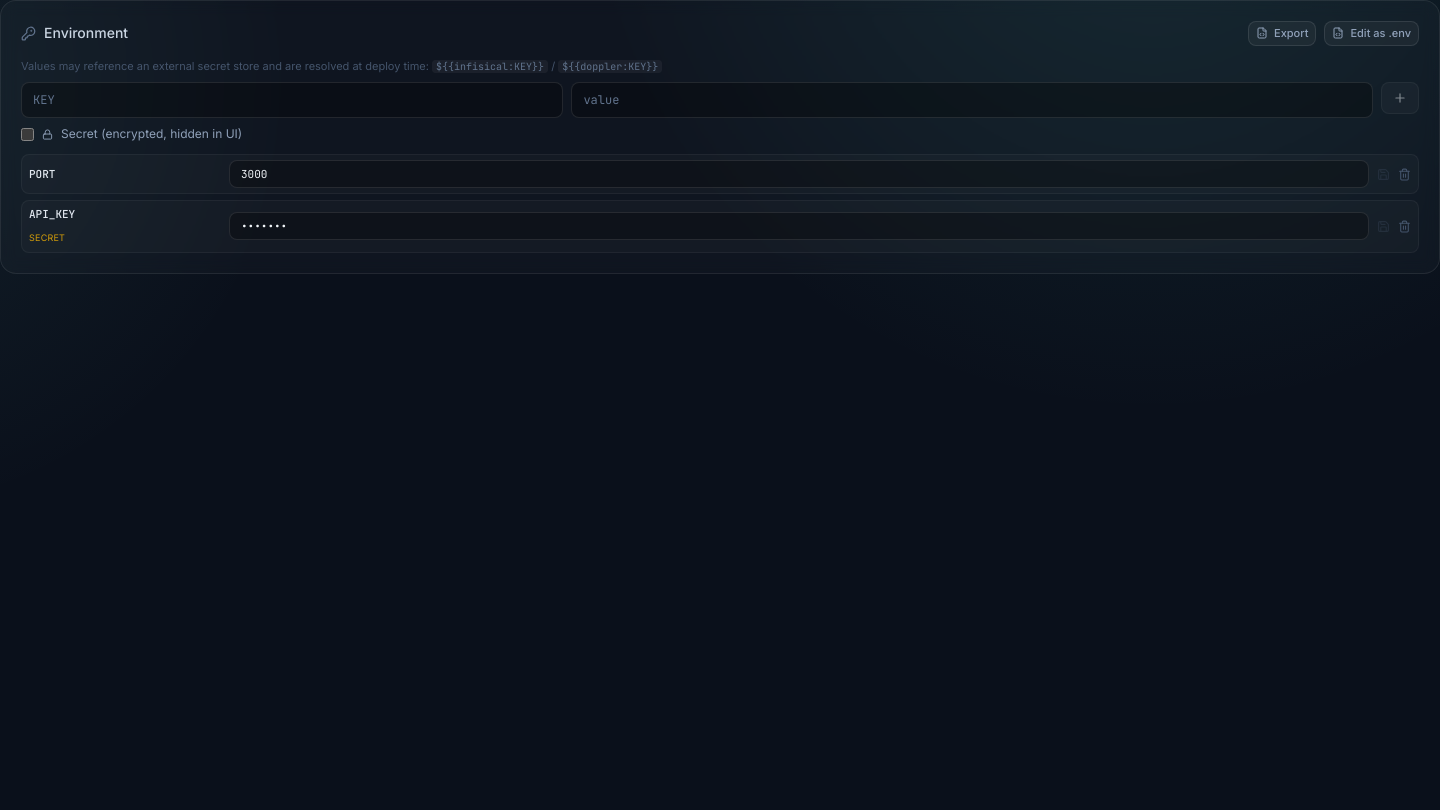
Test: EnvCard › toasts the failure when a save is rejected
Expected: the text "PORT" is shown, [29,167,55,181]
Type "X" into the field showing "3000" at coordinates (799, 174), box [229,160,1369,188]
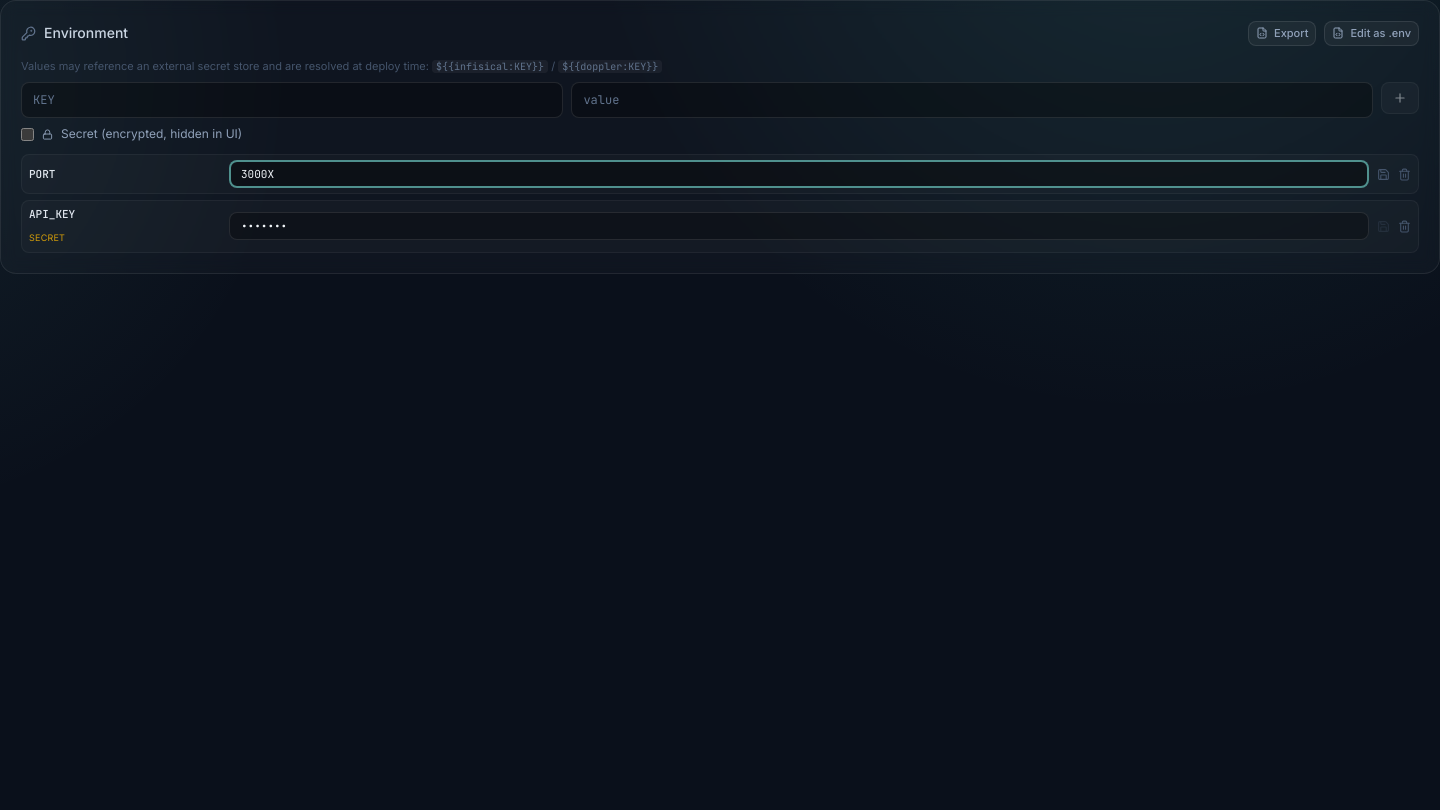
Click the 1st button titled "Save" at coordinates (1384, 174), box [1377,168,1390,180]
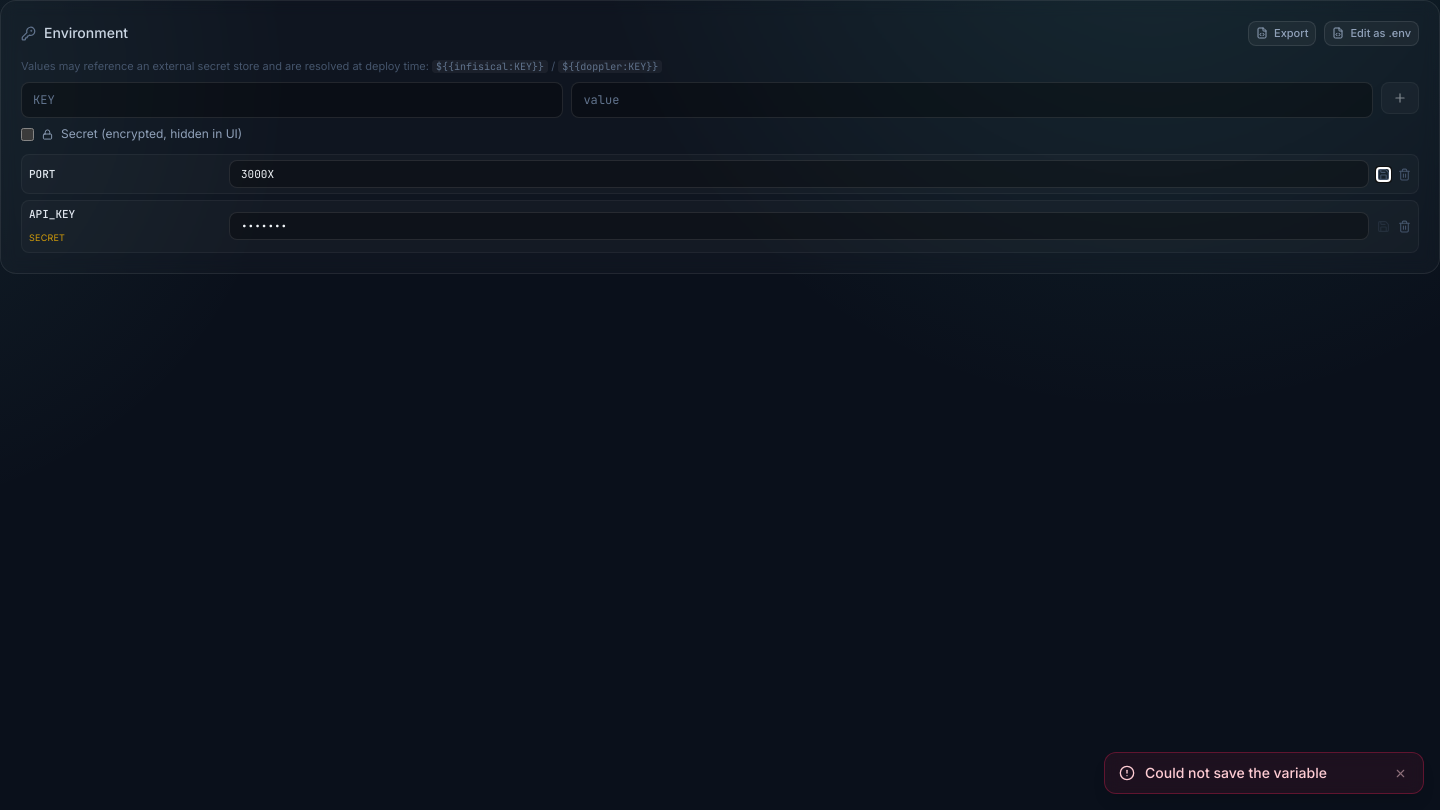
Expected: the text "Could not save the variable" is shown, [1145,764,1327,781]
